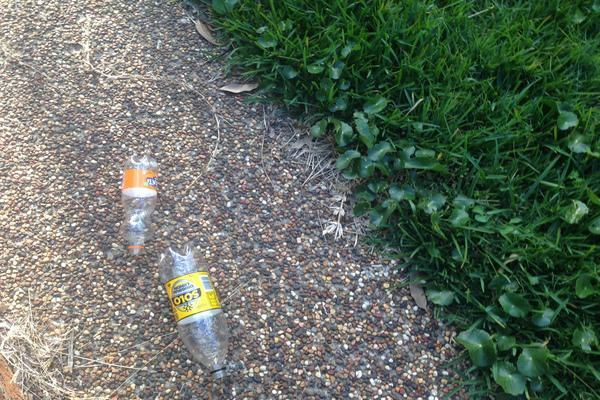Plastic Bottle: (157, 243, 230, 378), (122, 155, 157, 255)
